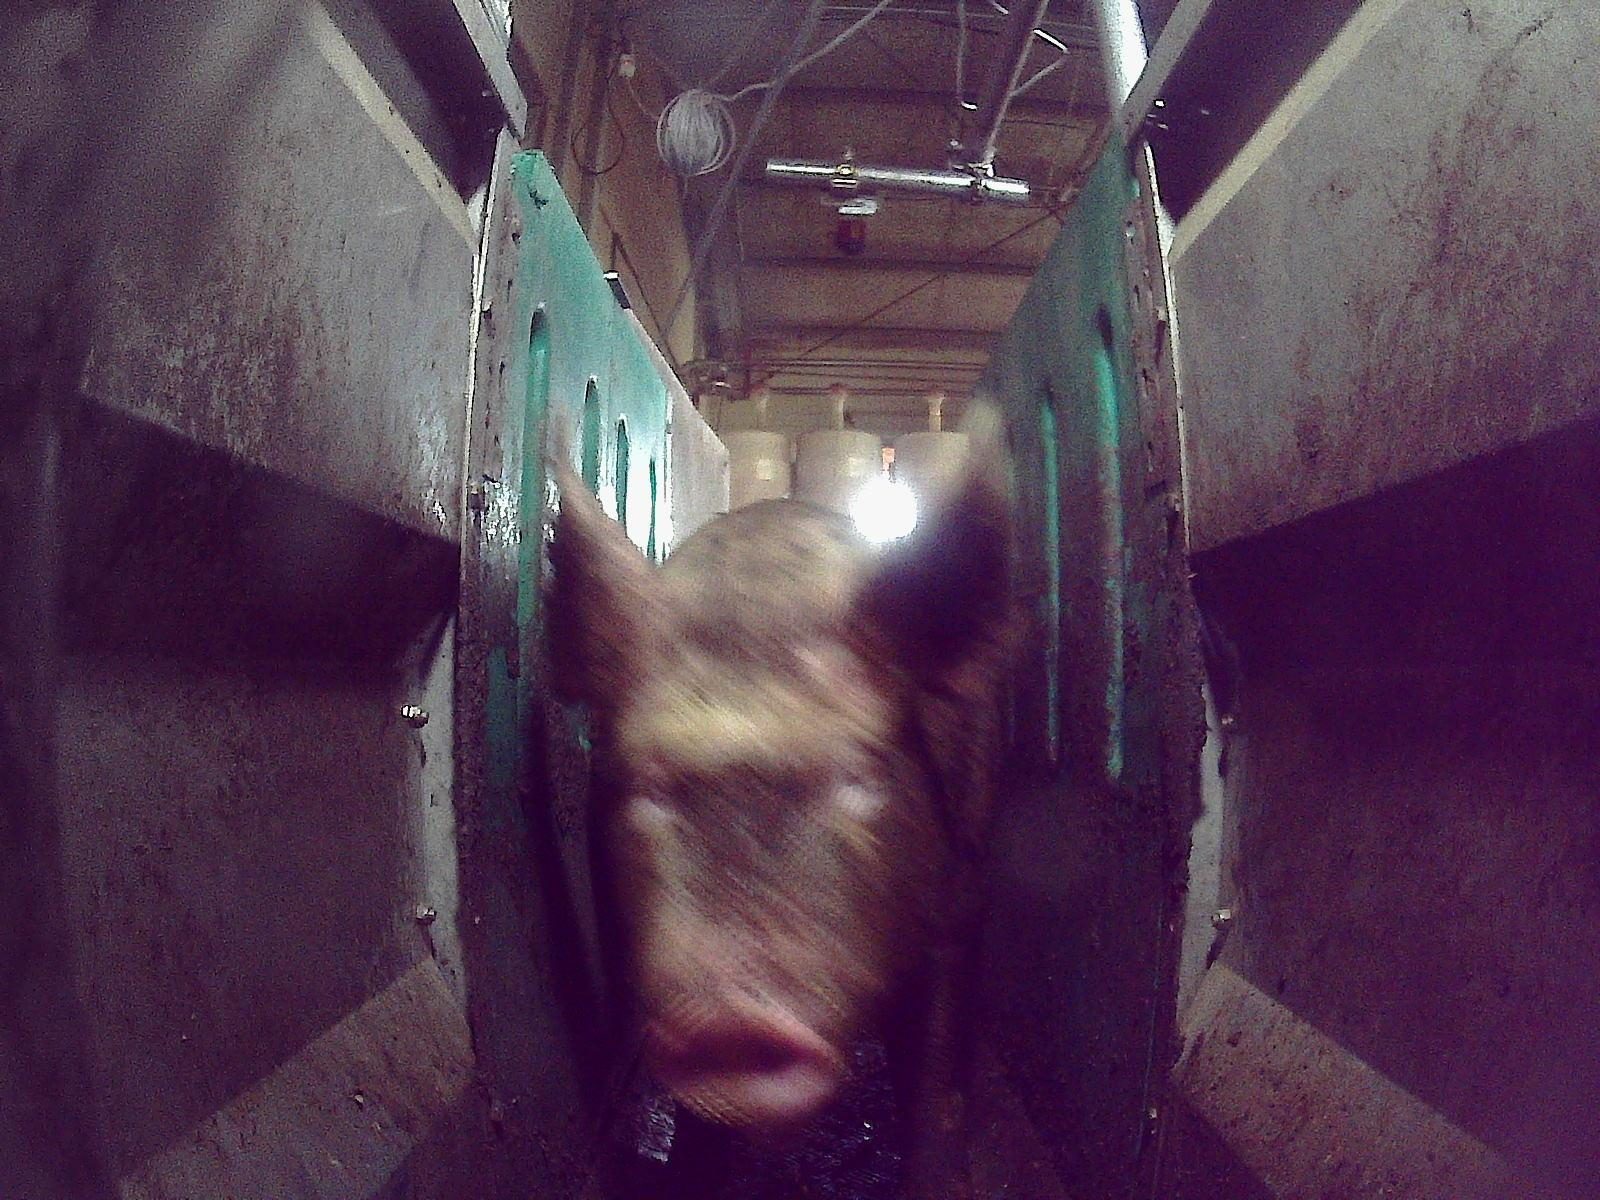Face: (609, 599, 946, 1132)
